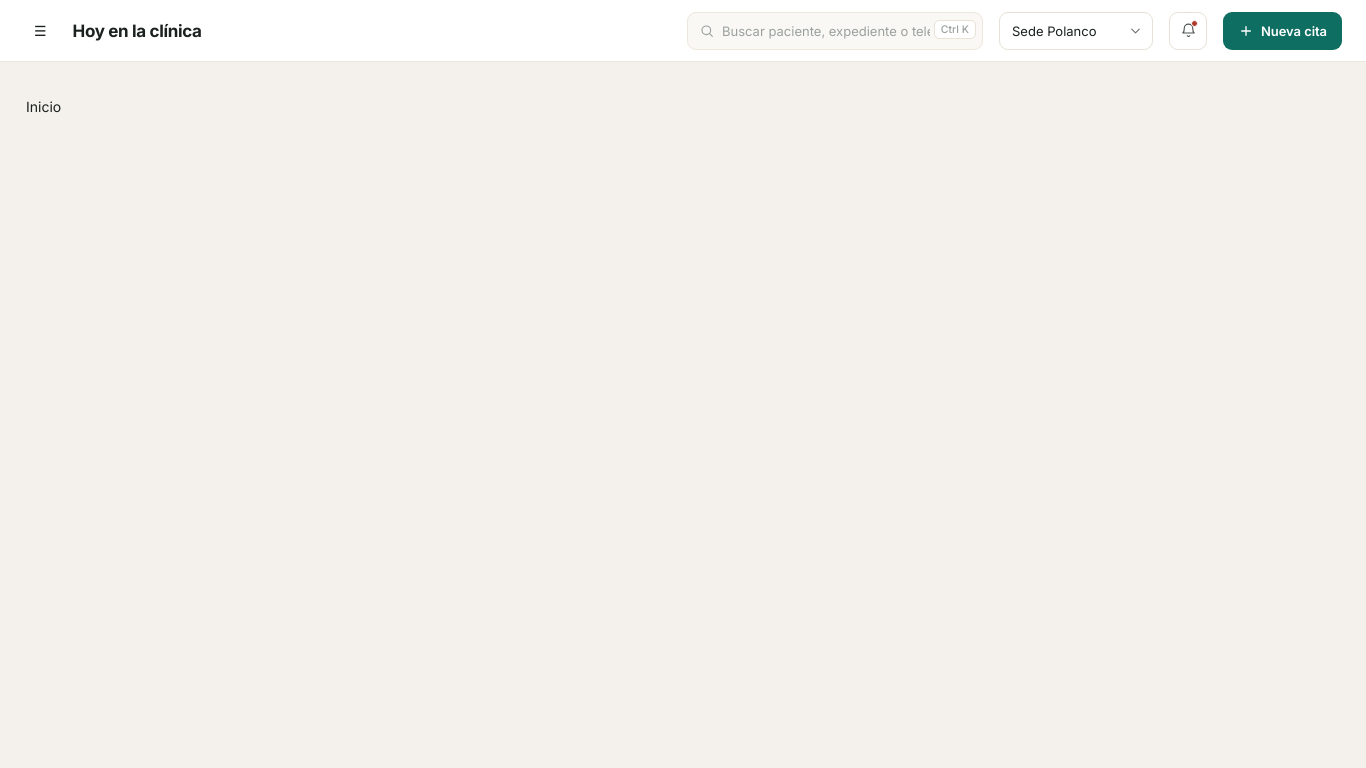
Test case: mobile navigation › keeps closed navigation out of the document and closes after navigating
Expected: the link "Pacientes" is not shown
What coordinates should you click on to do the following:
click the button named "Abrir menú"
I would click on:
 (40, 30)
Its box is [24,8,57,52].
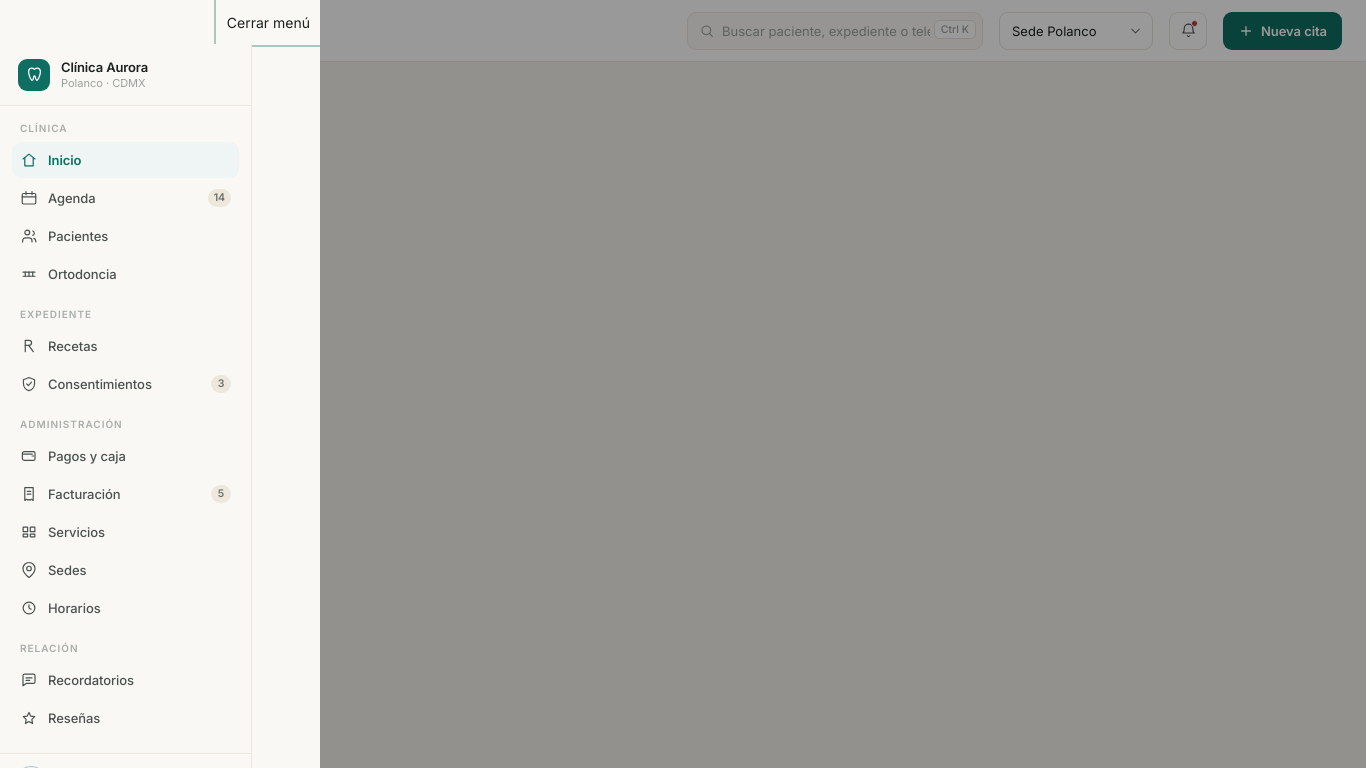
Expected: the dialog named "Menú del panel" is shown, [0,0,320,767]
What coordinates should you click on to do the following:
click the link "Pacientes"
I would click on:
 (64, 236)
Its box is [20,227,108,245].
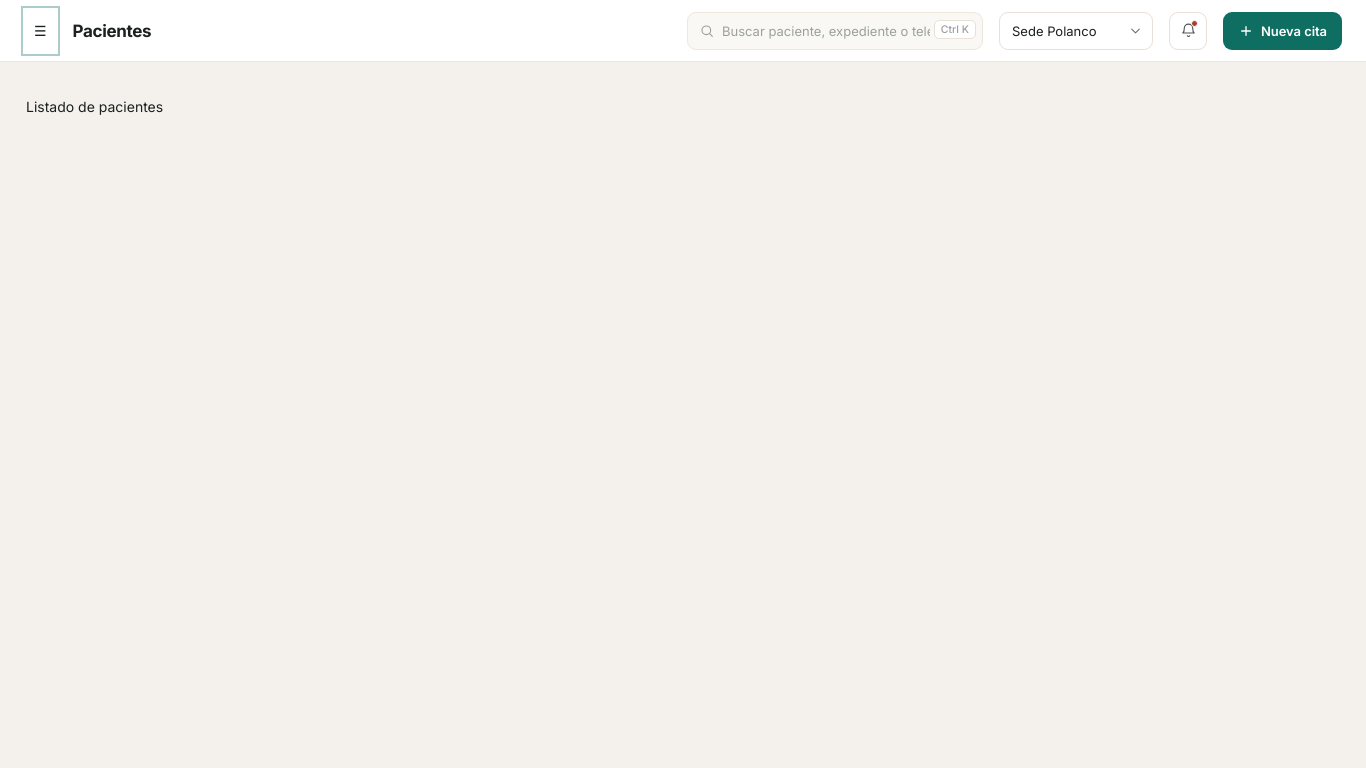
Expected: the text "Listado de pacientes" is shown, [26,98,163,115]
Expected: the dialog is gone
